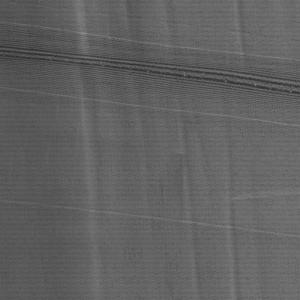Wrinkle: (122, 1, 207, 300), (64, 1, 113, 300), (214, 95, 249, 300), (232, 1, 255, 71)
